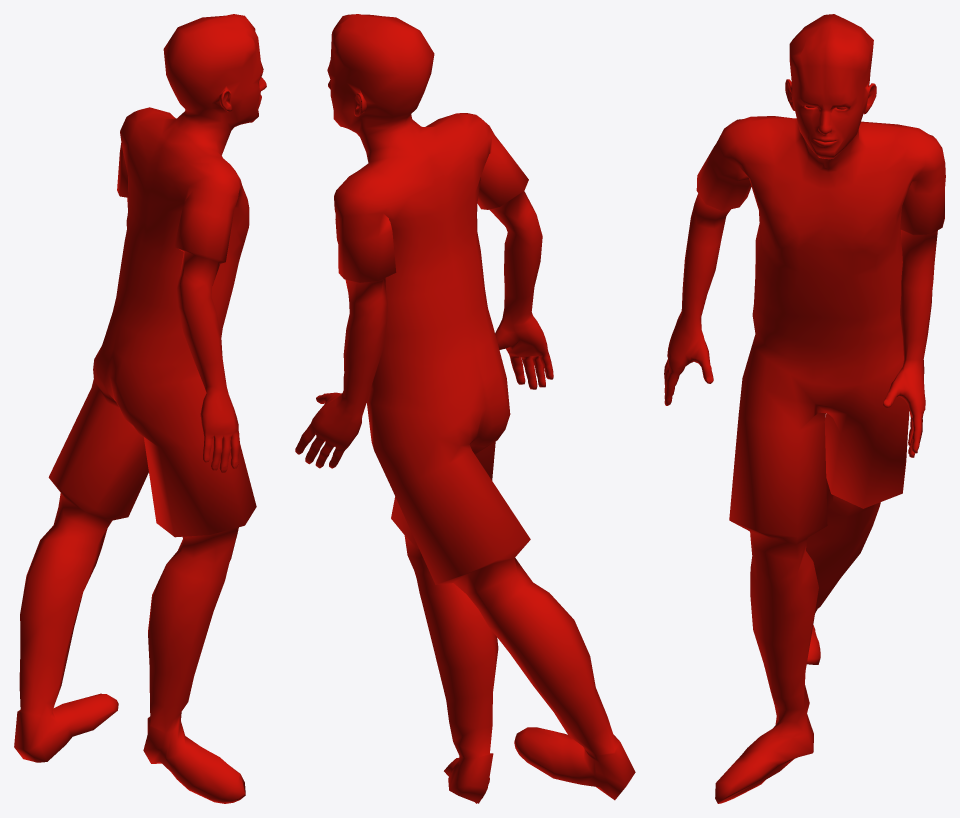
The model's file is player_000044.obj.
3 renders of one model, left to right at view 1: azimuth 30°, elevation 25°; view 2: azimuth 150°, elevation 25°; view 3: azimuth 270°, elevation 25°, orthographic. The views are drawn at different scales.
Parts seen in each view (by area): view 1: soccerplayer.002_mesh.003; view 2: soccerplayer.002_mesh.003; view 3: soccerplayer.002_mesh.003.
Part boxes in pixels (x1=…): soccerplayer.002_mesh.003: x1=14, y1=14, x2=266, y2=803; soccerplayer.002_mesh.003: x1=295, y1=14, x2=635, y2=803; soccerplayer.002_mesh.003: x1=664, y1=14, x2=945, y2=803.
Bounding box in the file's own units: 1.12 × 3 × 0.9613.
